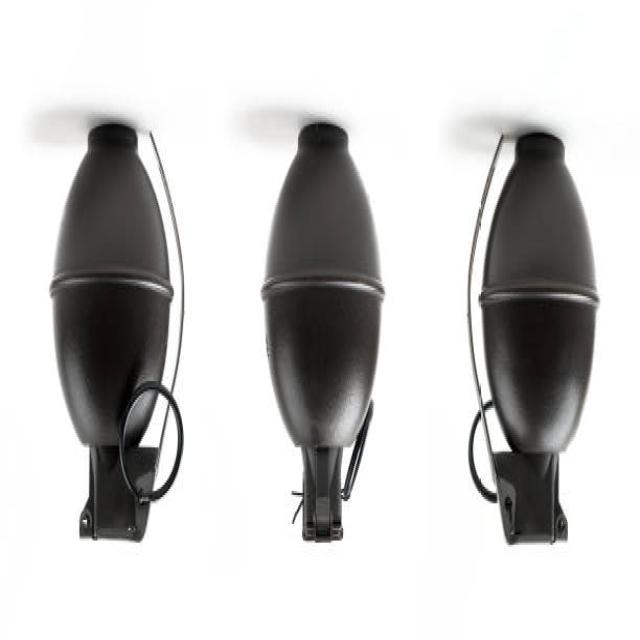grenade: (460, 123, 602, 553), (49, 123, 189, 549), (258, 116, 388, 555)
